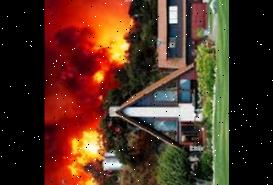fire: (83, 0, 154, 69), (65, 117, 109, 185), (84, 68, 123, 93)
